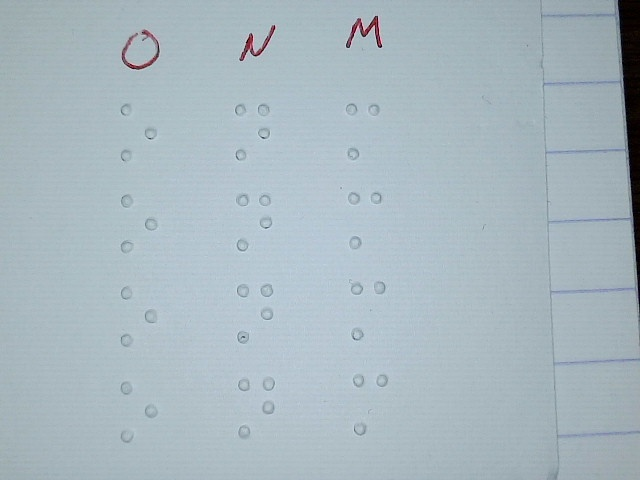M: (349, 278, 387, 341), (352, 372, 390, 435), (344, 99, 382, 160), (346, 189, 384, 250)
N: (235, 281, 275, 344), (236, 375, 276, 438), (231, 102, 272, 162), (233, 191, 274, 251)
O: (119, 285, 160, 348), (118, 379, 159, 442), (118, 102, 159, 162), (119, 193, 160, 253)
